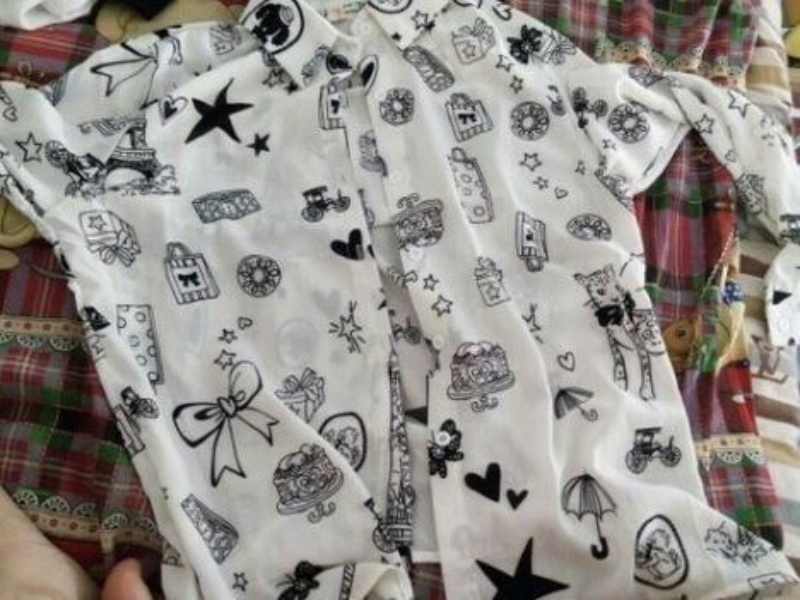long_sleeved_outwear: (0, 0, 798, 598)
